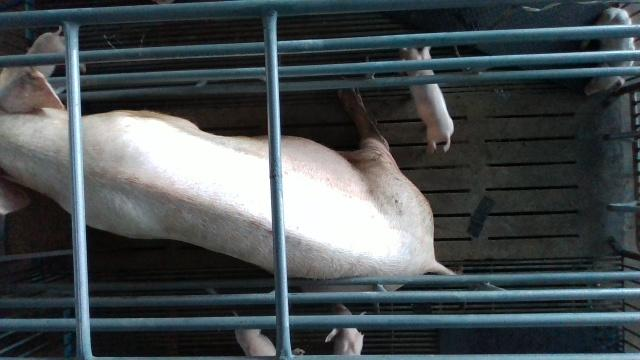piglet: (400, 47, 453, 145), (583, 4, 640, 95), (12, 25, 89, 90), (226, 312, 311, 360), (321, 297, 373, 360)
sow-sit: (0, 62, 458, 295)
